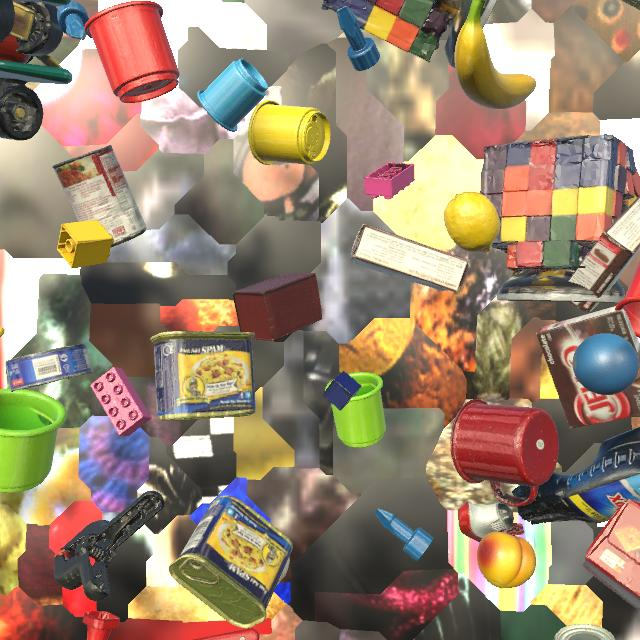ycb_003_cracker_box: (582, 499, 640, 611)
ycb_005_tomato_soup_can: (52, 145, 146, 247), (554, 624, 615, 640)
ycb_007_tuna_fish_can: (5, 344, 93, 392)
ycb_008_pudding_box: (536, 306, 640, 429), (568, 195, 640, 312), (350, 224, 470, 292)
ycb_010_potted_meat_can: (169, 495, 293, 629), (150, 331, 256, 421)
ycb_011_banana: (454, 0, 536, 109)
ycb_014_lemon: (444, 192, 500, 252)
ycb_015_peach: (477, 531, 536, 589)
